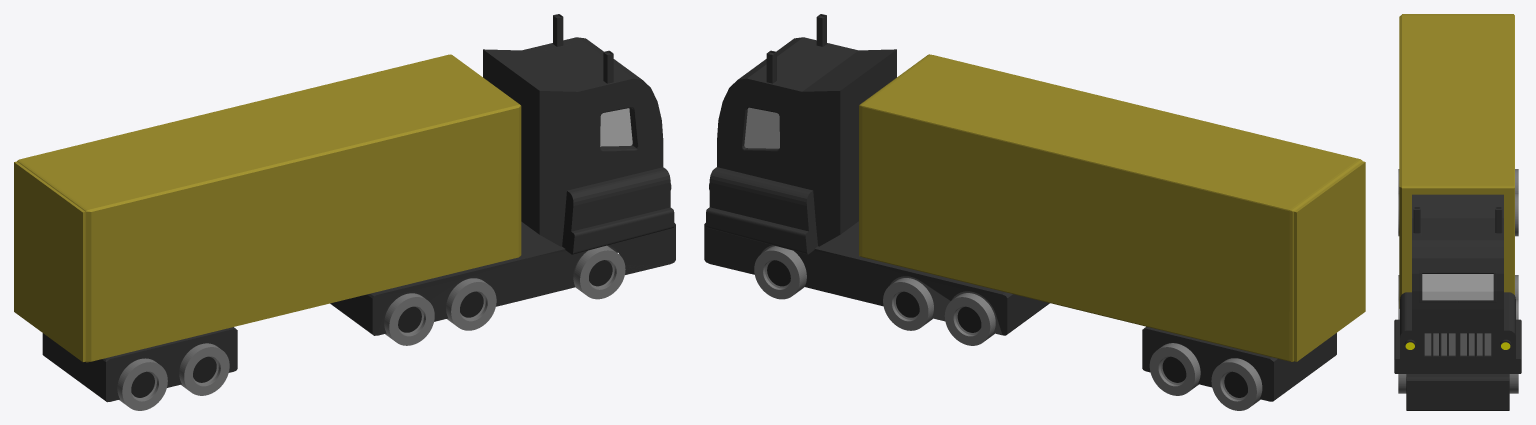
Rendered from LKW.fbx.
The picture shows the model from 3 angles, left to right: view 1: azimuth 30°, elevation 25°; view 2: azimuth 150°, elevation 25°; view 3: azimuth 270°, elevation 25°; orthographic projection. The views are drawn at different scales.
Visible parts, largest first — view 1: LKW, Door.001; view 2: LKW, Door.001; view 3: LKW.
Part boxes in pixels (bbox=[...]): LKW: bbox=[17, 14, 675, 410]; Door.001: bbox=[14, 161, 85, 361]; LKW: bbox=[704, 14, 1362, 410]; Door.001: bbox=[1294, 161, 1365, 361]; LKW: bbox=[1394, 14, 1521, 410].
Bounding box in the file's own units: 1868 × 698 × 425.
